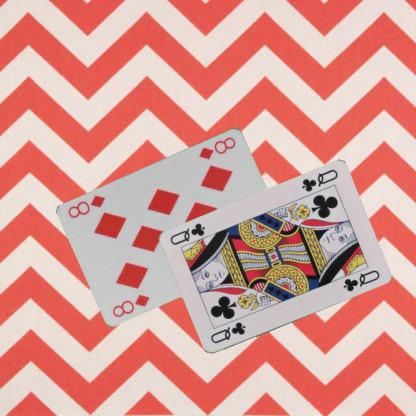8d: (110, 291, 151, 318), (196, 134, 237, 160)
Qc: (299, 167, 339, 194), (207, 319, 247, 345)
